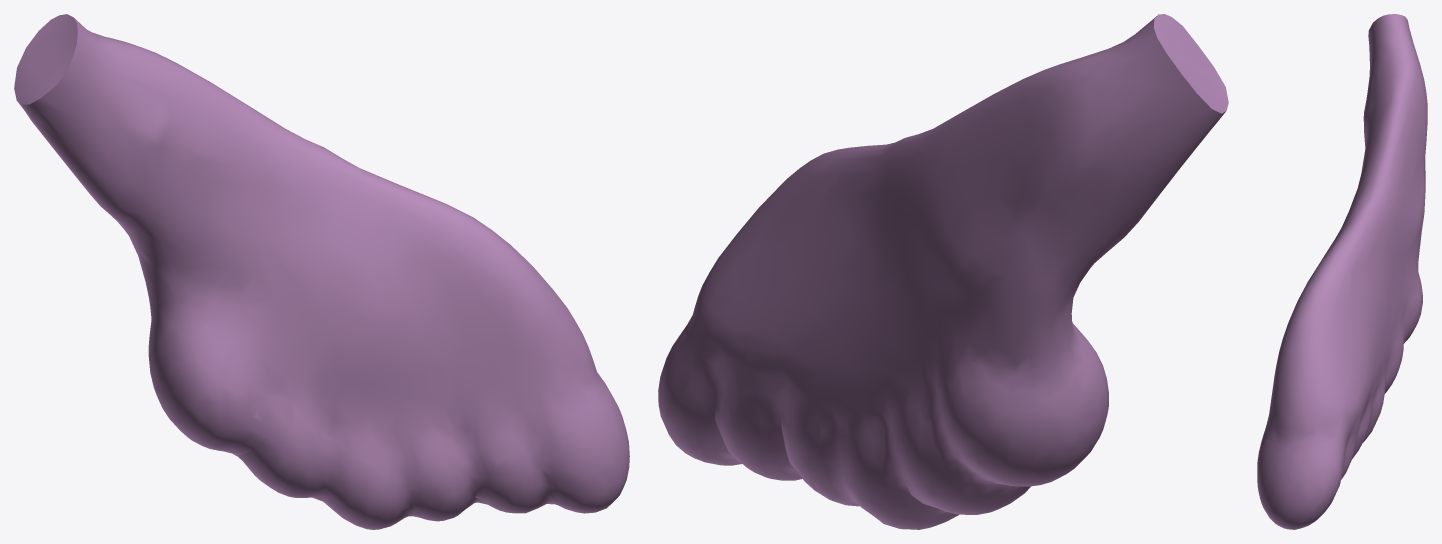
3 views of the same model, side by side, from view 1: azimuth 30°, elevation 25°; view 2: azimuth 150°, elevation 25°; view 3: azimuth 270°, elevation 25° (orthographic). The views are drawn at different scales.
Visible parts, largest first — view 1: 左侧绒球; view 2: 左侧绒球; view 3: 左侧绒球.
Boxes of the visible parts, box(x1,y1,x2,y2) form: 左侧绒球: box(14, 14, 629, 529); 左侧绒球: box(658, 14, 1228, 529); 左侧绒球: box(1257, 14, 1427, 529).
Size of the model in its own units: 0.0271 by 0.0261 by 0.011.
